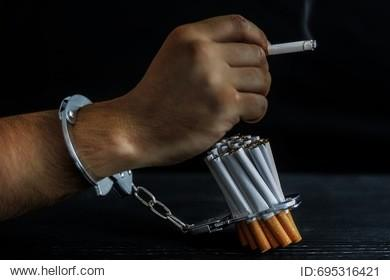Cigarette: (206, 136, 301, 248), (259, 42, 316, 54)
